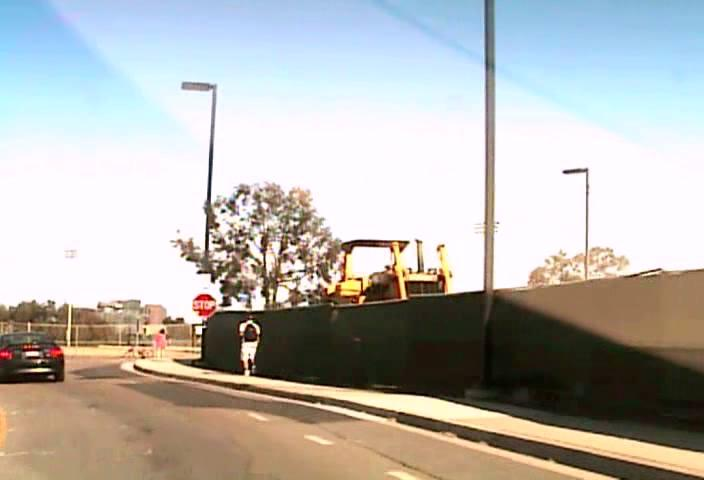stop: (191, 293, 217, 317)
